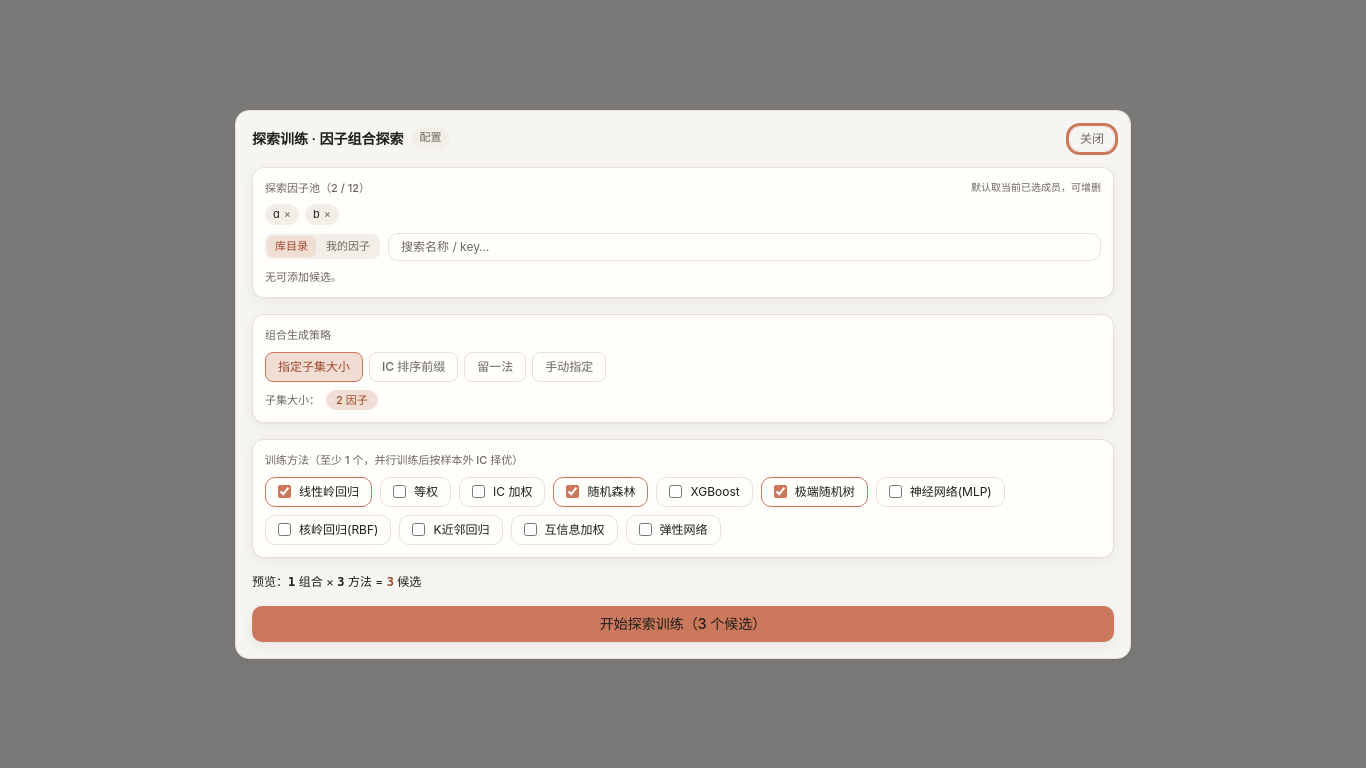
it: WeightExploreModal › renders the factor-insights panel and disables refine when samples are insufficient
This screenshot has width=1366, height=768.
Click the button "开始探索训练（3 个候选）": x=683, y=624 [252,606,1114,642]
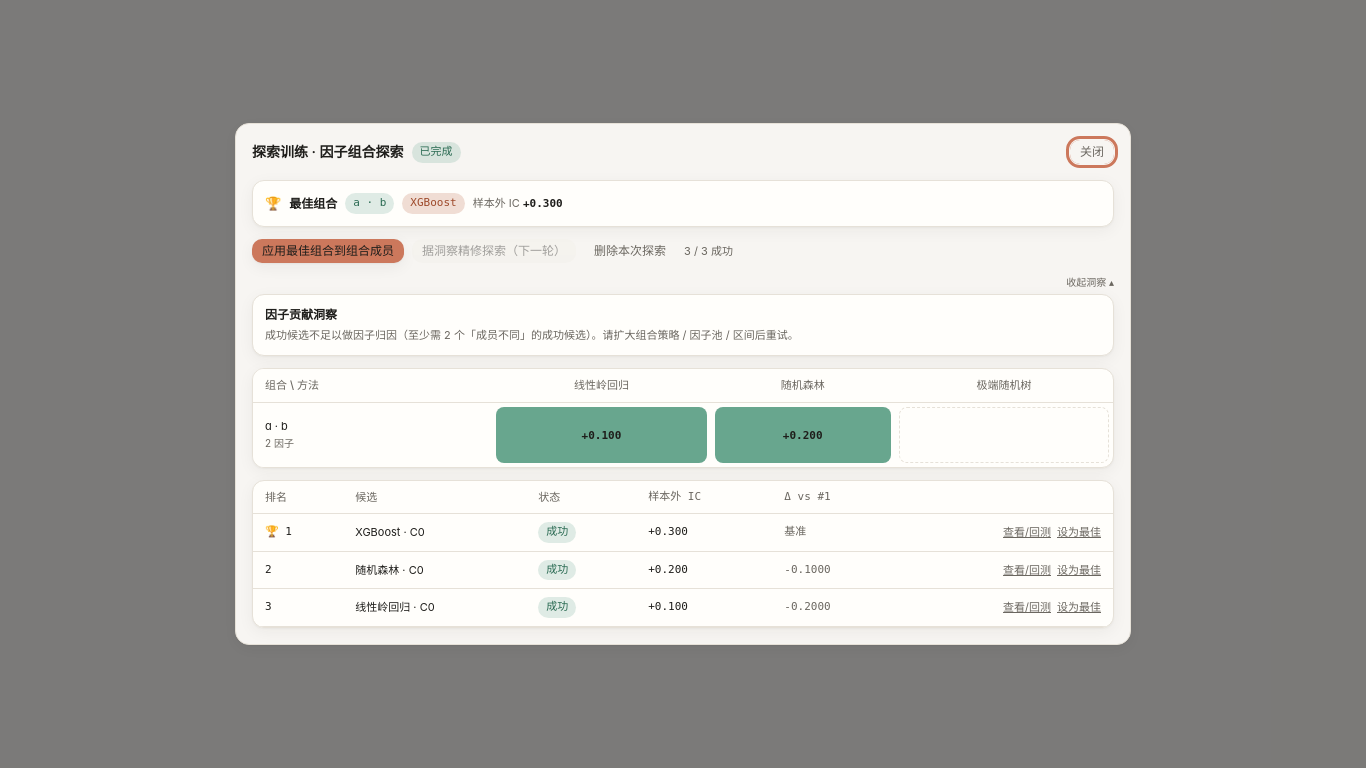
Result: the button "应用最佳组合到组合成员" is shown at [252,239,404,263]
Result: the element with test id "insights-weak" is shown at [252,294,1114,356]
Result: the button "据洞察精修探索（下一轮）" is disabled at [412,239,576,263]
